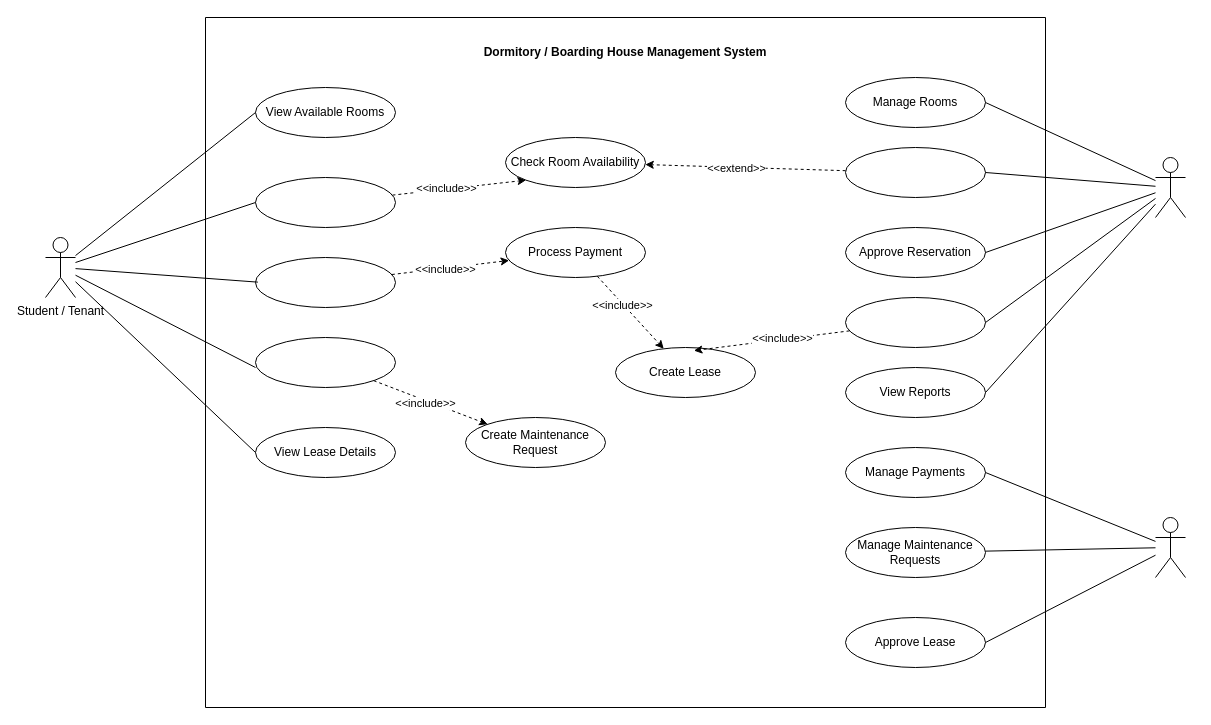
The diagram is 1211 pixels wide and 725 high, and some of its shapes have lost their labels. Here are the shapes that lost their labels. From the top down, the centre of each, then its label:
At (x=915, y=172): "Manage Tenants".
At (x=1170, y=187): "Admin".
At (x=325, y=202): "Reserve Room".
At (x=325, y=282): "Pay Rent".
At (x=915, y=322): "Assign Room".
At (x=325, y=362): "Report Issue".
At (x=1170, y=547): "Landlord".
